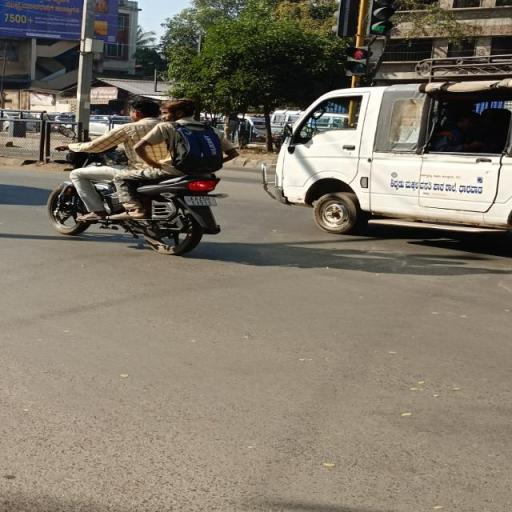bike: (39, 98, 244, 256)
numberplate: (185, 196, 217, 206)
withouthelmet: (128, 97, 157, 120), (164, 101, 193, 120)
